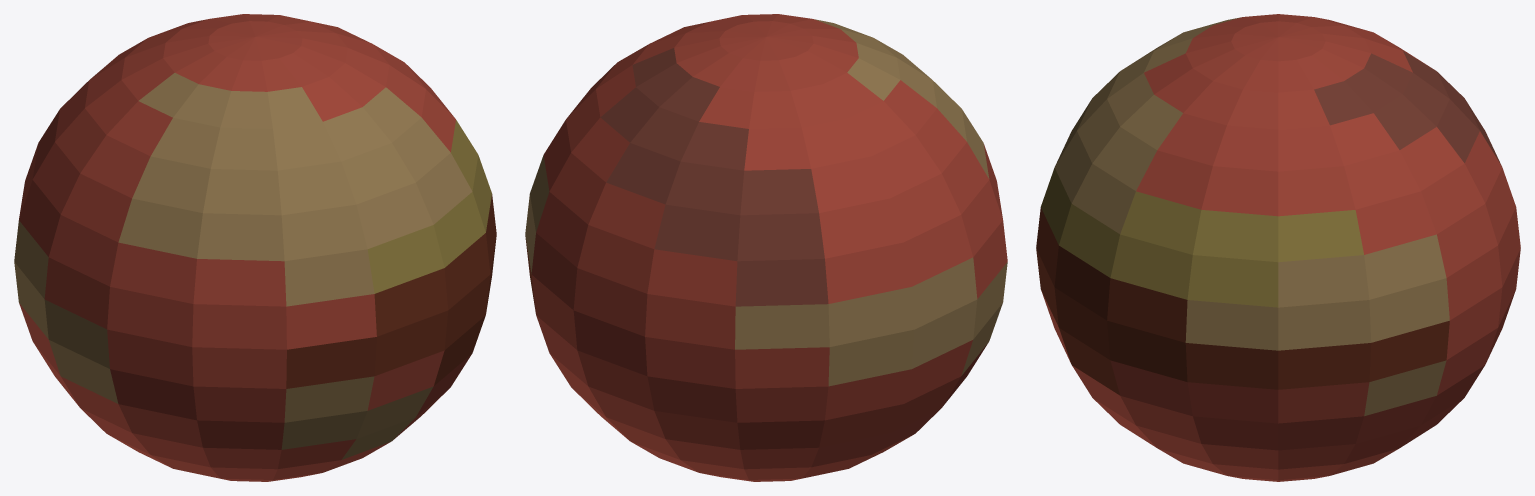
File: mars.fbx
3 renders of one model, left to right at view 1: azimuth 30°, elevation 25°; view 2: azimuth 150°, elevation 25°; view 3: azimuth 270°, elevation 25°, orthographic.
Visible parts, largest first — view 1: Cube; view 2: Cube; view 3: Cube.
Boxes of the visible parts, left/top/right/bottom form: Cube: left=14, top=14, right=496, bottom=481; Cube: left=525, top=14, right=1007, bottom=481; Cube: left=1036, top=14, right=1520, bottom=481.
Bounding box in the file's own units: 394 × 376 × 392.
